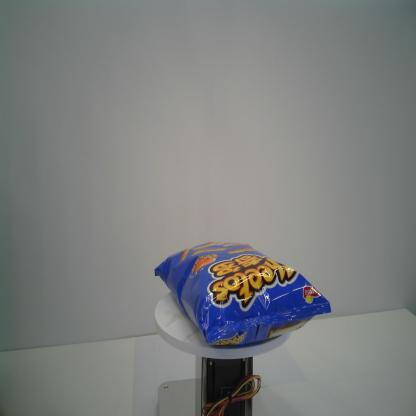Puffed Food: (154, 240, 331, 349)
